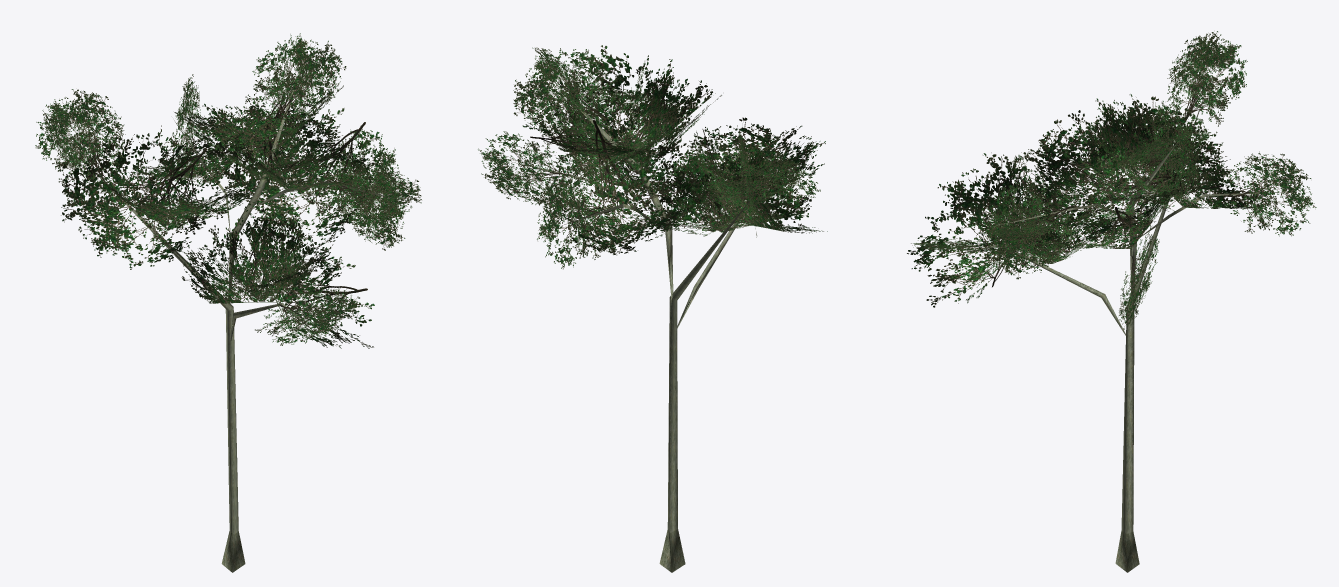
Rendered from nboo_decd_cambylictustree_l2.fbx.
3 views of the same model, side by side, from view 1: azimuth 30°, elevation 25°; view 2: azimuth 150°, elevation 25°; view 3: azimuth 270°, elevation 25° (orthographic). The views are drawn at different scales.
Visible parts, largest first — view 1: mesh_node; view 2: mesh_node; view 3: mesh_node.
Boxes of the visible parts, x1,y1,x2,y2 form: mesh_node: [35, 33, 421, 572]; mesh_node: [478, 45, 827, 572]; mesh_node: [907, 31, 1316, 572].
Size of the model in its own units: 39.77 by 54.89 by 42.
